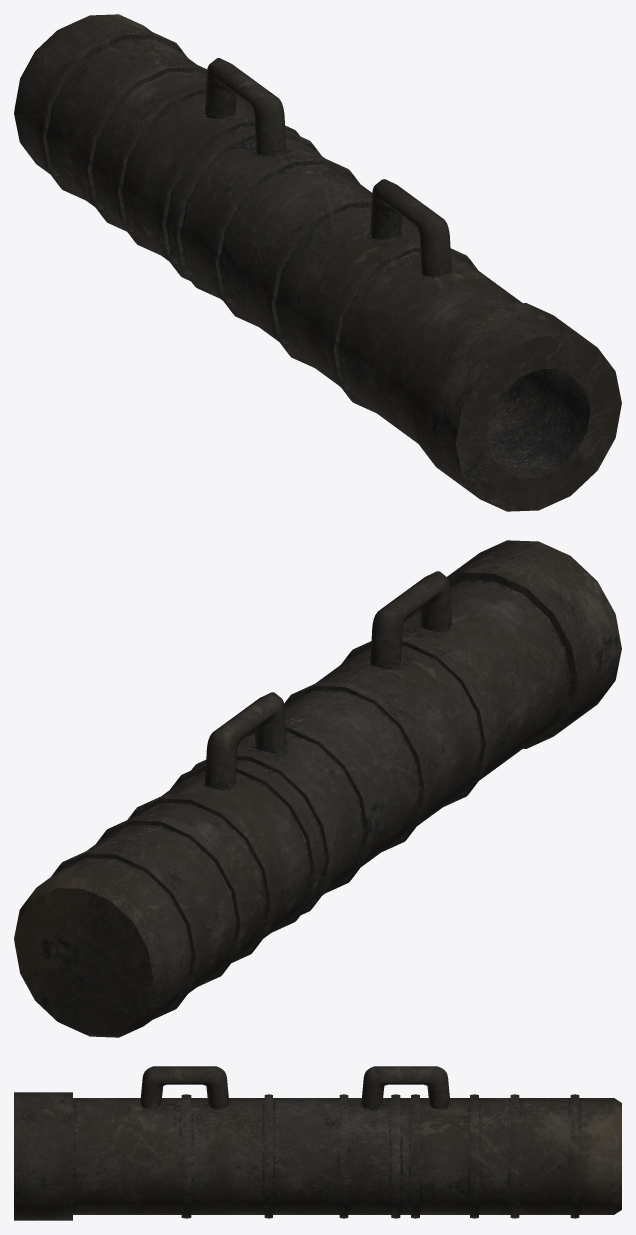
File: cheonja_chongtong_gun.glb
3 renders of one model, top to bottom at view 1: azimuth 30°, elevation 25°; view 2: azimuth 150°, elevation 25°; view 3: azimuth 270°, elevation 25°, orthographic. The views are drawn at different scales.
Parts seen in each view (by area): view 1: SM_Cheonja_Chongtong_Gun; view 2: SM_Cheonja_Chongtong_Gun; view 3: SM_Cheonja_Chongtong_Gun.
Boxes of the visible parts, x1,y1,x2,y2 form: SM_Cheonja_Chongtong_Gun: [14, 14, 621, 511]; SM_Cheonja_Chongtong_Gun: [14, 540, 621, 1037]; SM_Cheonja_Chongtong_Gun: [14, 1066, 621, 1220].
Bounding box in the file's own units: 0.277 × 0.3483 × 1.31.
1 material, 1 textured.
